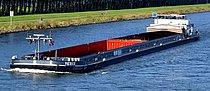Ship: (9, 10, 203, 77)
